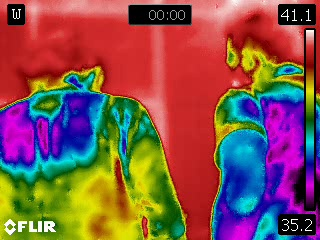human: (1, 49, 188, 240), (209, 11, 320, 240)
